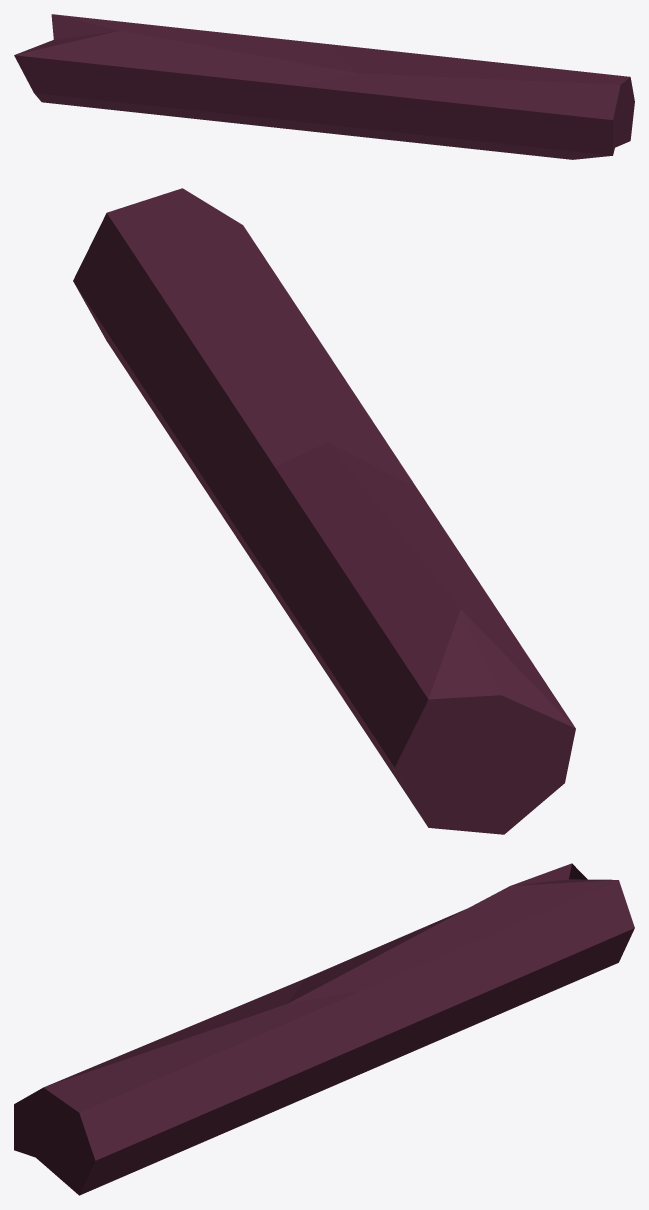
Rendered from log_006_grp.fbx.
The picture shows the model from 3 angles, top to bottom: view 1: azimuth 30°, elevation 25°; view 2: azimuth 150°, elevation 25°; view 3: azimuth 270°, elevation 25°; orthographic projection. The views are drawn at different scales.
Visible parts, largest first — view 1: log_006_grp; view 2: log_006_grp; view 3: log_006_grp.
Boxes of the visible parts, x1,y1,x2,y2 form: log_006_grp: (14, 14, 634, 159); log_006_grp: (73, 188, 575, 834); log_006_grp: (14, 863, 634, 1195).
Bounding box in the file's own units: 228 × 40 × 218.
